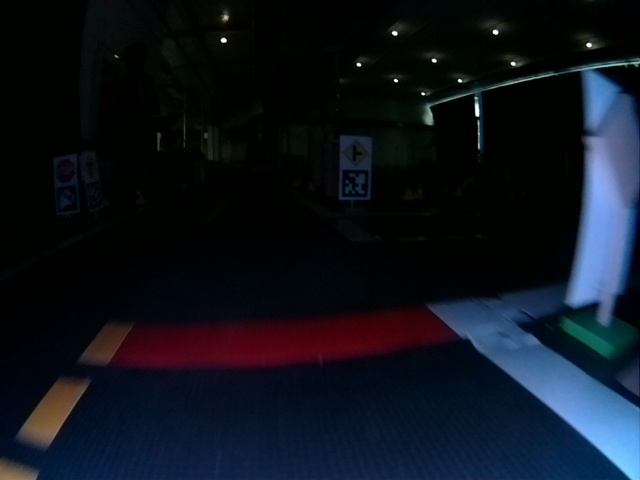Duckie: (135, 190, 147, 205)
Intersection sign: (342, 139, 368, 166), (83, 154, 96, 178)
QR code: (340, 170, 368, 197), (55, 185, 79, 213), (86, 182, 104, 209)
Stop sign: (55, 157, 76, 181)
